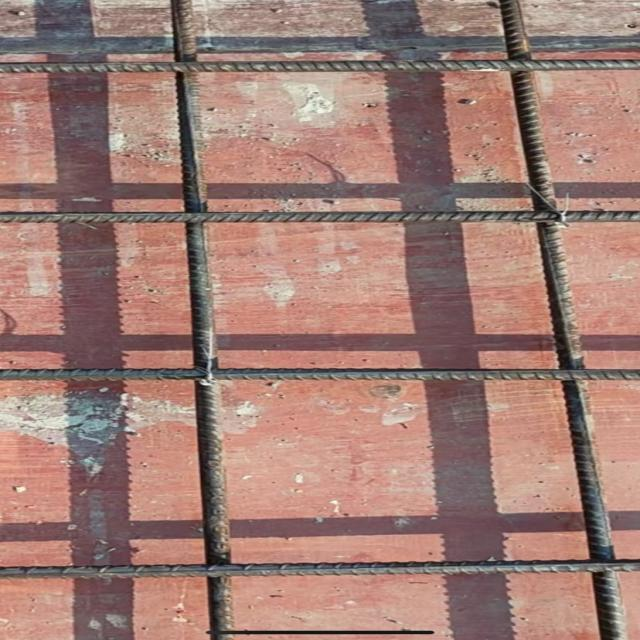ribbed bar: (493, 0, 623, 639), (165, 0, 232, 639), (0, 556, 638, 578), (0, 56, 638, 75), (0, 207, 638, 223), (0, 366, 638, 382)
